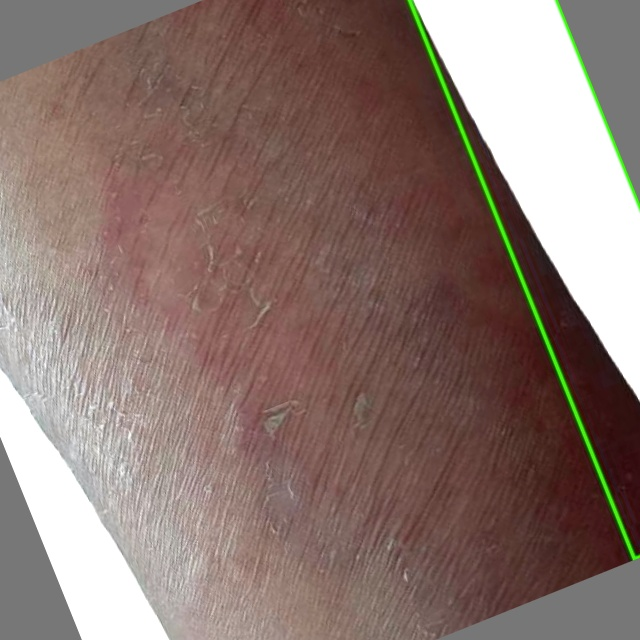Tinea Corporis: (409, 0, 639, 558)
